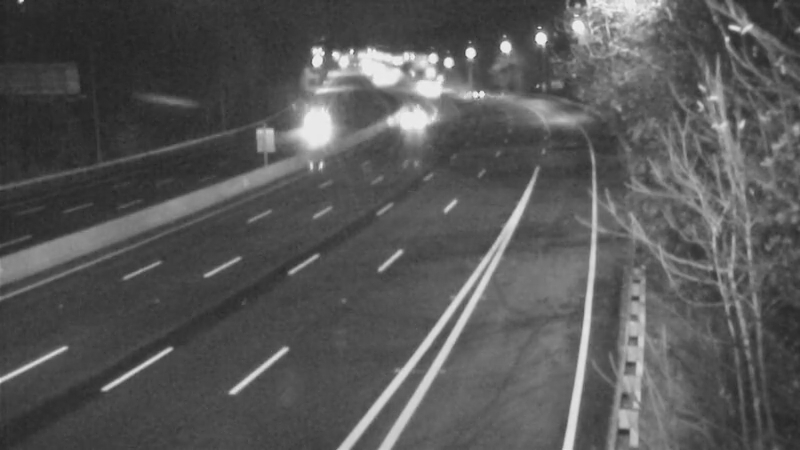vehicle: (394, 60, 444, 110), (452, 67, 502, 117), (386, 97, 436, 147), (290, 101, 340, 151)
